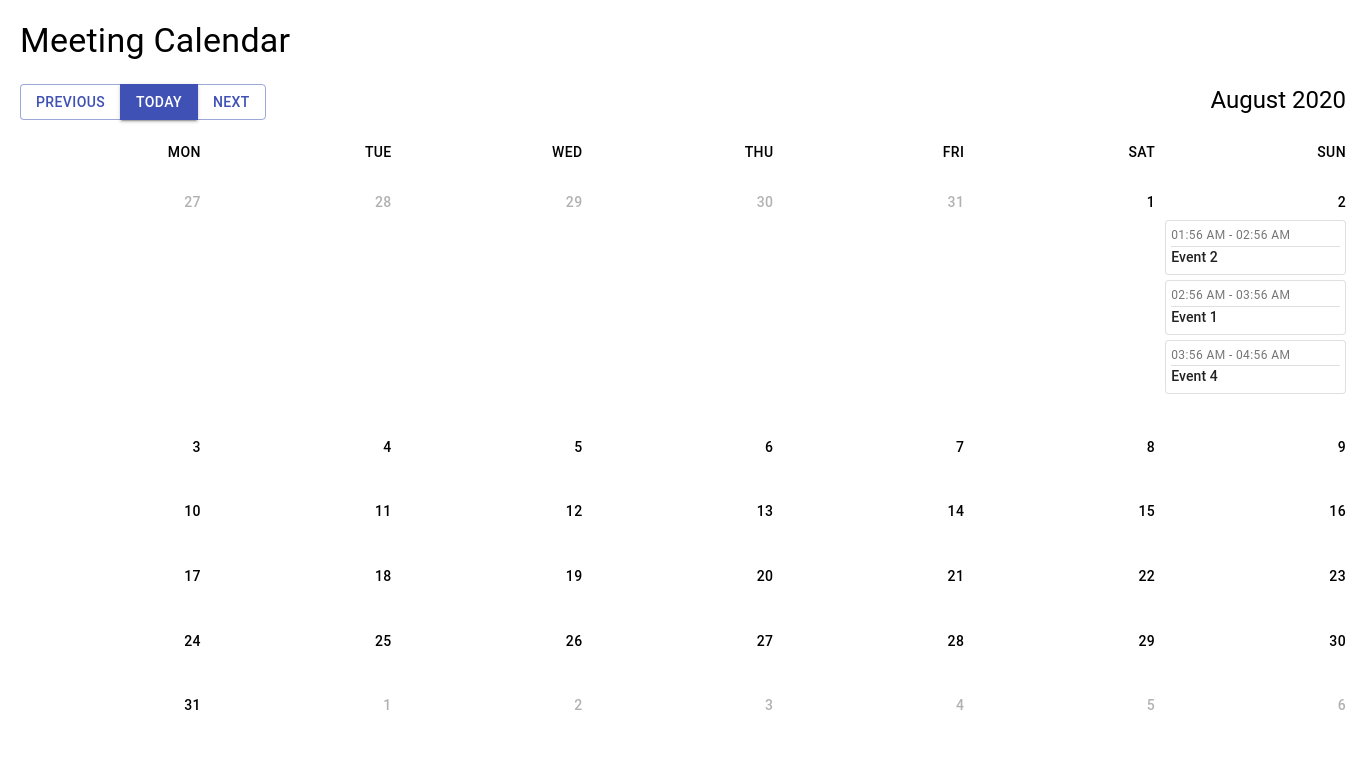
Test: Calendar › should click on a day and show overlay
The width and height of the screenshot is (1366, 768).
Step 1. Click the element that starts with "01:56 AM - 02:56 AM" → click(1256, 337), box [1165,220,1346,454]
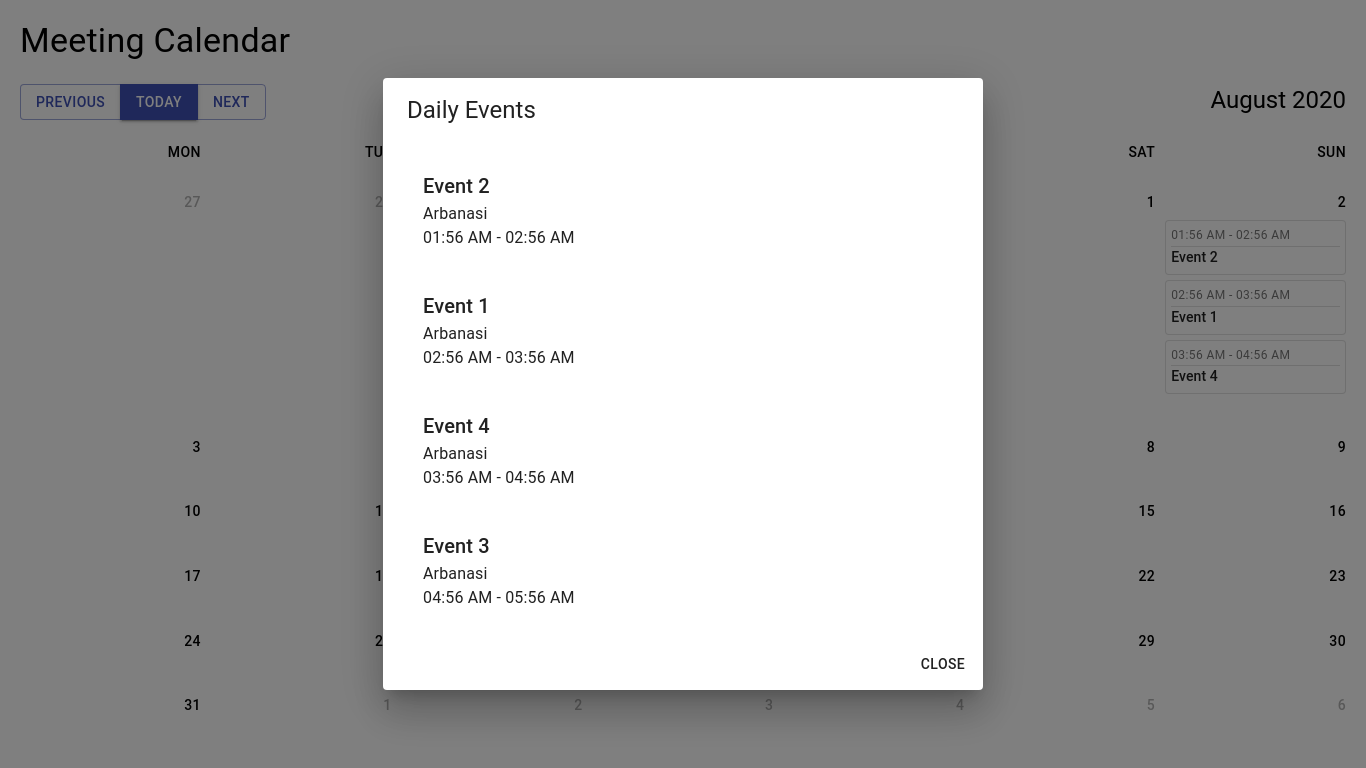
Now the element with test id "eventsDialog" is shown
